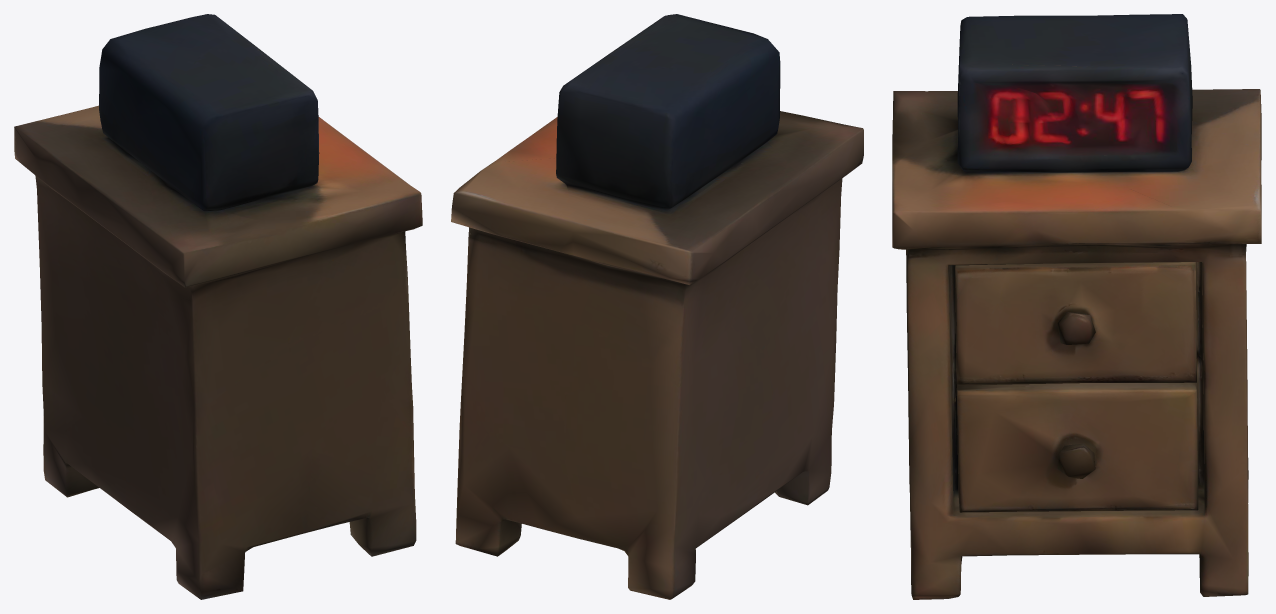
File: йобана+тумбочка.fbx
The picture shows the model from 3 angles, left to right: view 1: azimuth 30°, elevation 25°; view 2: azimuth 150°, elevation 25°; view 3: azimuth 270°, elevation 25°; orthographic projection. The views are drawn at different scales.
Visible parts, largest first — view 1: meshes[0]; view 2: meshes[0]; view 3: meshes[0].
Boxes of the visible parts, left/top/right/bottom form: meshes[0]: left=14, top=14, right=422, bottom=599; meshes[0]: left=451, top=14, right=863, bottom=599; meshes[0]: left=892, top=14, right=1261, bottom=599.
Bounding box in the file's own units: 0.5769 × 1 × 0.6719.
Materials: 1 (1 with a texture image).
